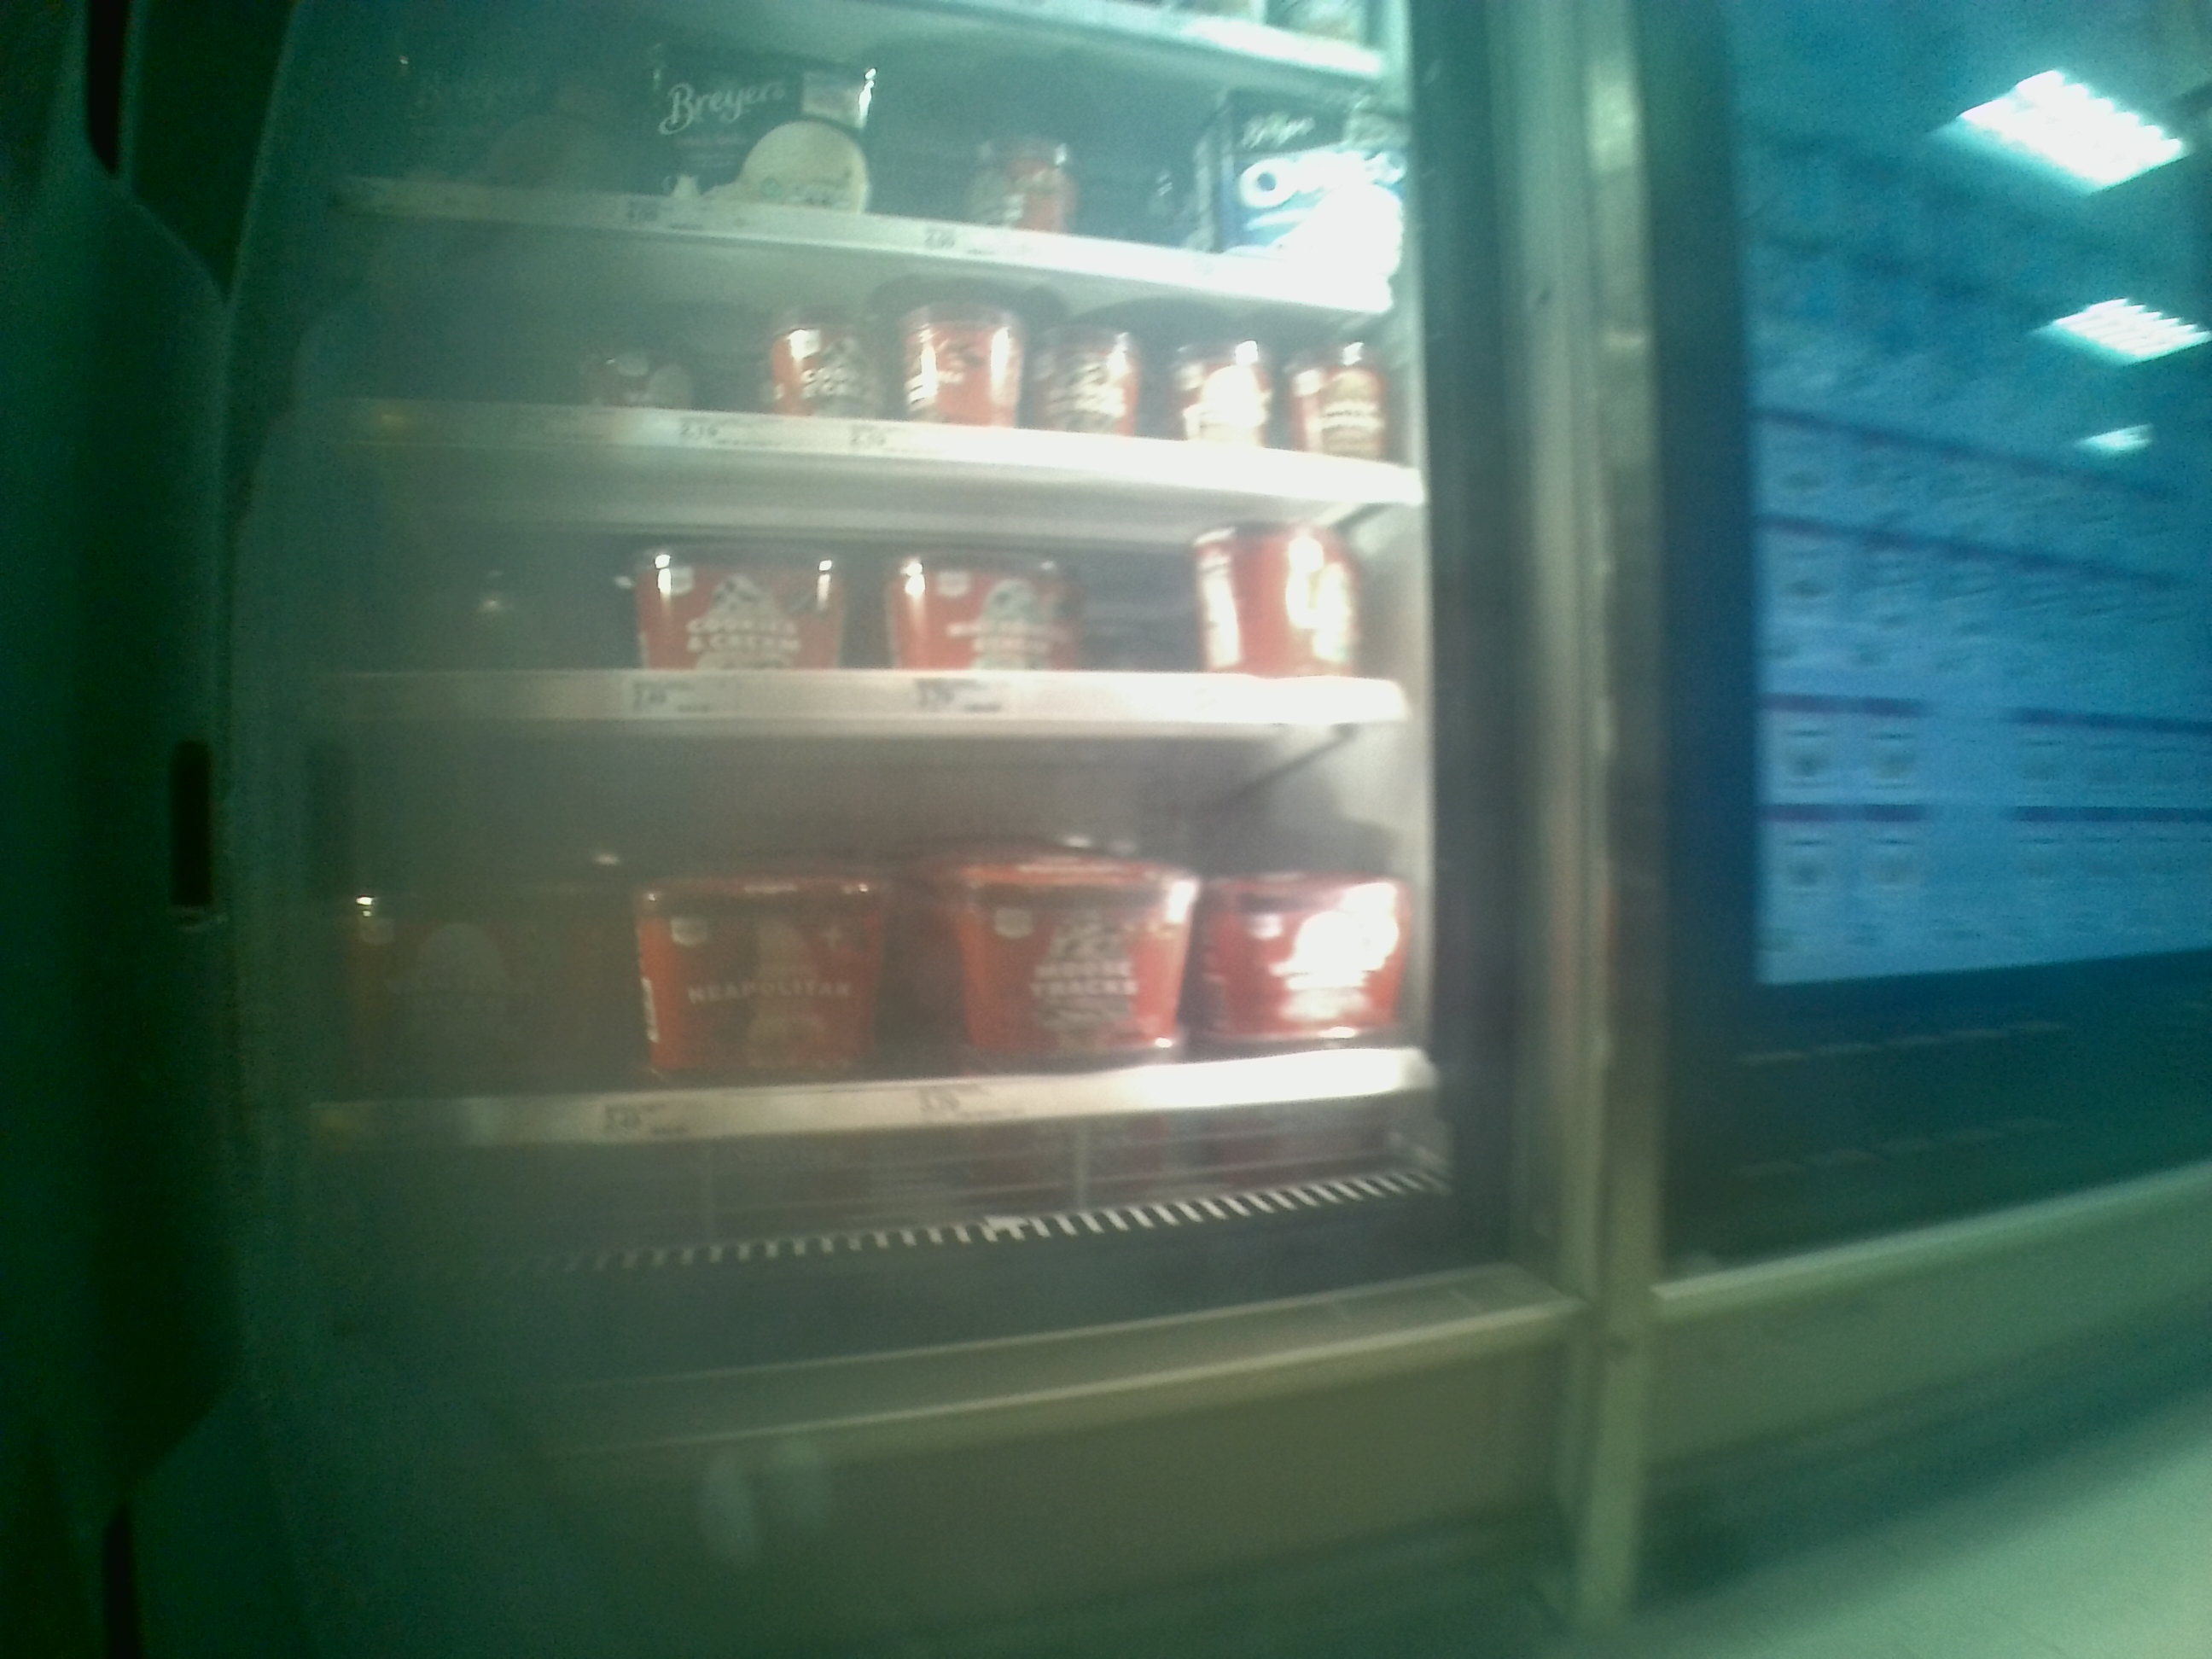shelf: (314, 721, 1446, 1298), (348, 209, 1420, 507), (320, 455, 1433, 723)
